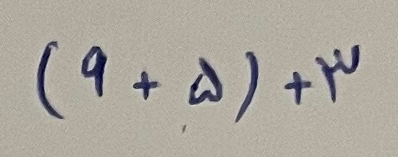character: (314, 42, 362, 105), (37, 37, 62, 123), (233, 49, 260, 125), (186, 56, 226, 106), (80, 43, 109, 101), (283, 70, 314, 104), (131, 70, 159, 99)
